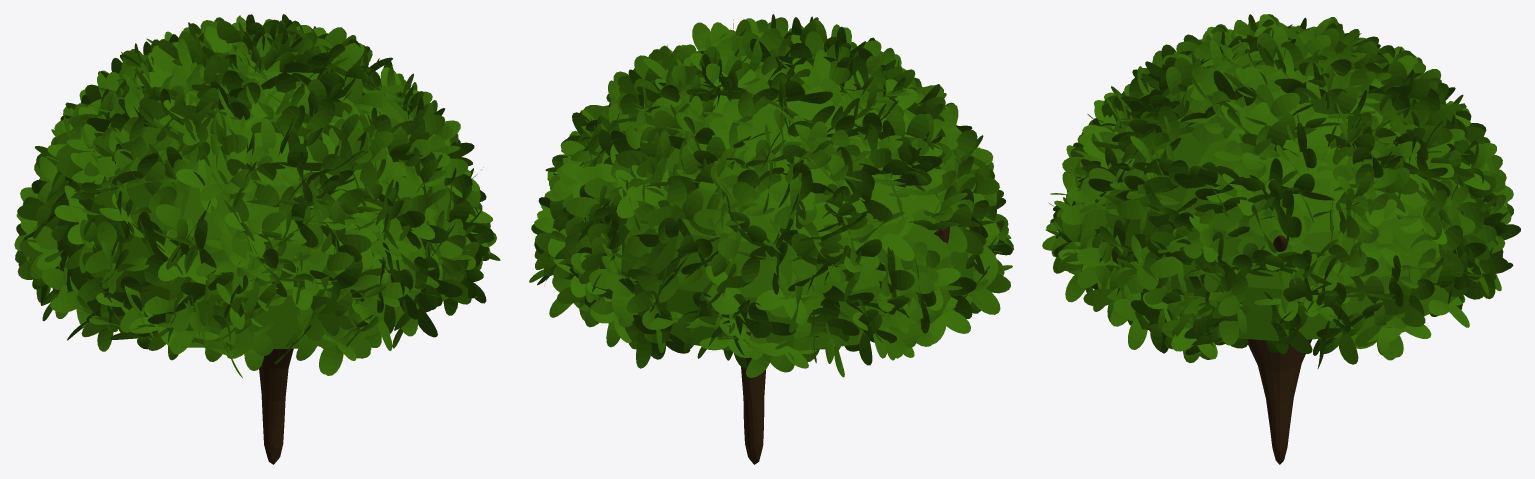
File: Bush.fbx
3 renders of one model, left to right at view 1: azimuth 30°, elevation 25°; view 2: azimuth 150°, elevation 25°; view 3: azimuth 270°, elevation 25°, orthographic. The views are drawn at different scales.
Parts seen in each view (by area): view 1: Sphere, Cube, Sphere|Leaf|Dupli|428, Sphere|Leaf|Dupli|4, Sphere|Leaf|Dupli|528, Sphere|Leaf|Dupli|539, Sphere|Leaf|Dupli|314, Sphere|Leaf|Dupli|714, Sphere|Leaf|Dupli|685, Sphere|Leaf|Dupli|196, Sphere|Leaf|Dupli|135, Sphere|Leaf|Dupli|674 (+57 smaller); view 2: Sphere, Cube, Sphere|Leaf|Dupli|355, Sphere|Leaf|Dupli|618, Sphere|Leaf|Dupli|589, Sphere|Leaf|Dupli|379, Sphere|Leaf|Dupli|224, Sphere|Leaf|Dupli|109, Sphere|Leaf|Dupli|720, Sphere|Leaf|Dupli|462, Sphere|Leaf|Dupli|757, Sphere|Leaf|Dupli|258 (+50 smaller); view 3: Sphere, Cube, Sphere|Leaf|Dupli|312, Sphere|Leaf|Dupli|84, Sphere|Leaf|Dupli|427, Sphere|Leaf|Dupli|103, Sphere|Leaf|Dupli|38, Sphere|Leaf|Dupli|344, Sphere|Leaf|Dupli|753, Sphere|Leaf|Dupli|438, Sphere|Leaf|Dupli|220, Sphere|Leaf|Dupli|127 (+50 smaller).
Part boxes in pixels (x1,y1,x2,y2): Sphere: (57, 51, 453, 349); Cube: (77, 223, 293, 464); Sphere|Leaf|Dupli|428: (155, 204, 216, 254); Sphere|Leaf|Dupli|4: (126, 180, 176, 216); Sphere|Leaf|Dupli|528: (85, 221, 118, 272); Sphere|Leaf|Dupli|539: (144, 295, 204, 332); Sphere|Leaf|Dupli|314: (344, 76, 387, 116); Sphere|Leaf|Dupli|714: (117, 254, 164, 287); Sphere|Leaf|Dupli|685: (300, 110, 328, 162); Sphere|Leaf|Dupli|196: (50, 276, 88, 328); Sphere|Leaf|Dupli|135: (245, 118, 275, 166); Sphere|Leaf|Dupli|674: (176, 159, 217, 212); Sphere: (567, 57, 975, 350); Cube: (741, 227, 949, 464); Sphere|Leaf|Dupli|355: (755, 282, 809, 324); Sphere|Leaf|Dupli|618: (929, 297, 970, 344); Sphere|Leaf|Dupli|589: (626, 265, 660, 313); Sphere|Leaf|Dupli|379: (633, 309, 690, 359); Sphere|Leaf|Dupli|224: (656, 190, 716, 235); Sphere|Leaf|Dupli|109: (752, 163, 796, 233); Sphere|Leaf|Dupli|720: (647, 179, 686, 226); Sphere|Leaf|Dupli|462: (952, 268, 1000, 314); Sphere|Leaf|Dupli|757: (881, 213, 914, 260); Sphere|Leaf|Dupli|258: (746, 337, 794, 377); Sphere: (1091, 52, 1479, 341); Cube: (1247, 235, 1312, 464); Sphere|Leaf|Dupli|312: (1141, 106, 1193, 150); Sphere|Leaf|Dupli|84: (1293, 129, 1349, 171); Sphere|Leaf|Dupli|427: (1319, 312, 1364, 364); Sphere|Leaf|Dupli|103: (1221, 101, 1270, 143); Sphere|Leaf|Dupli|38: (1117, 174, 1159, 233); Sphere|Leaf|Dupli|344: (1308, 86, 1357, 118); Sphere|Leaf|Dupli|753: (1254, 84, 1299, 119); Sphere|Leaf|Dupli|438: (1113, 298, 1147, 349); Sphere|Leaf|Dupli|220: (1150, 229, 1187, 292); Sphere|Leaf|Dupli|127: (1438, 225, 1463, 277).
Size of the model in its own units: 225 by 222 by 229.
